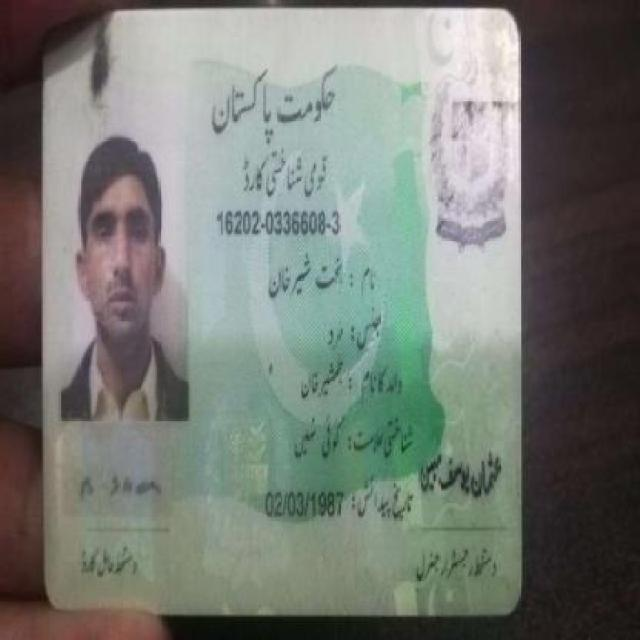Front: (31, 9, 529, 622)
